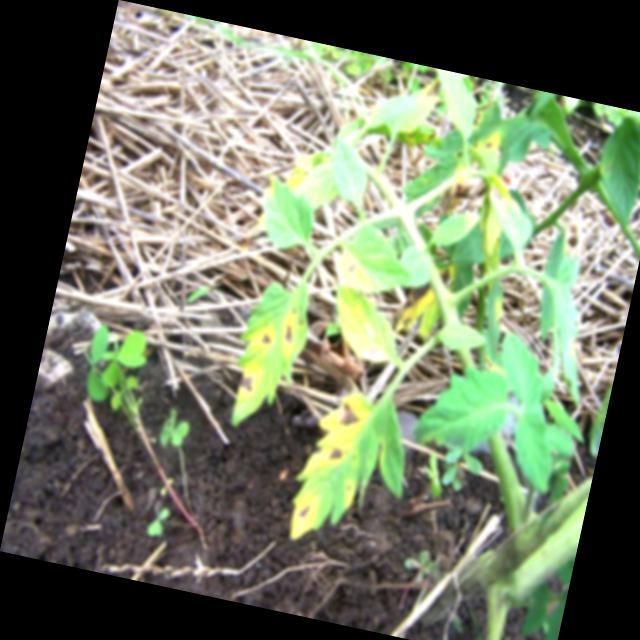Early_blight: (390, 260, 453, 336), (288, 490, 321, 544), (330, 395, 374, 433), (349, 336, 396, 365), (277, 310, 302, 360), (335, 250, 365, 289), (482, 178, 513, 213), (249, 319, 281, 351), (237, 360, 261, 397), (323, 439, 348, 464), (423, 76, 444, 102)
